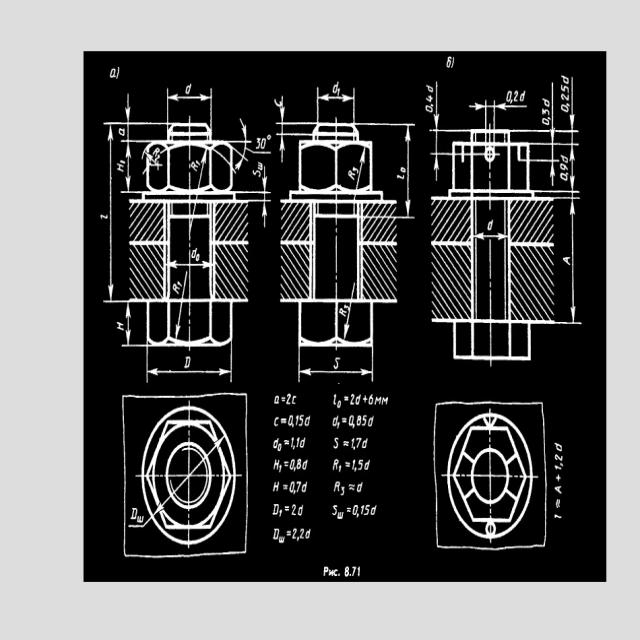marking_line: (107, 126, 117, 301), (297, 368, 375, 383), (146, 366, 233, 379), (123, 96, 134, 190), (569, 197, 577, 324), (405, 126, 414, 217), (433, 81, 441, 181), (550, 84, 557, 182), (276, 106, 287, 163), (468, 103, 529, 113), (167, 92, 211, 103), (172, 304, 184, 343), (320, 91, 352, 105), (262, 167, 269, 227), (123, 303, 133, 343), (569, 75, 576, 131), (340, 304, 350, 341), (568, 142, 575, 189), (358, 149, 367, 183), (473, 232, 506, 241)
numeric: (350, 394, 392, 411), (345, 415, 379, 429), (348, 436, 374, 451), (352, 506, 378, 519), (289, 477, 303, 500), (291, 526, 306, 544), (289, 415, 304, 432), (289, 455, 304, 471), (502, 91, 521, 103), (256, 137, 270, 152), (351, 456, 364, 472), (289, 503, 301, 519), (288, 435, 301, 449), (425, 96, 433, 116), (356, 483, 369, 493), (285, 394, 293, 407)
special_symbol: (284, 525, 292, 540), (284, 459, 291, 473), (349, 483, 357, 494), (342, 438, 350, 448), (342, 394, 350, 404), (280, 416, 287, 427), (281, 485, 289, 494), (282, 439, 289, 449), (283, 503, 289, 514), (279, 396, 287, 404), (344, 459, 351, 468), (346, 504, 352, 514), (341, 415, 347, 425)
